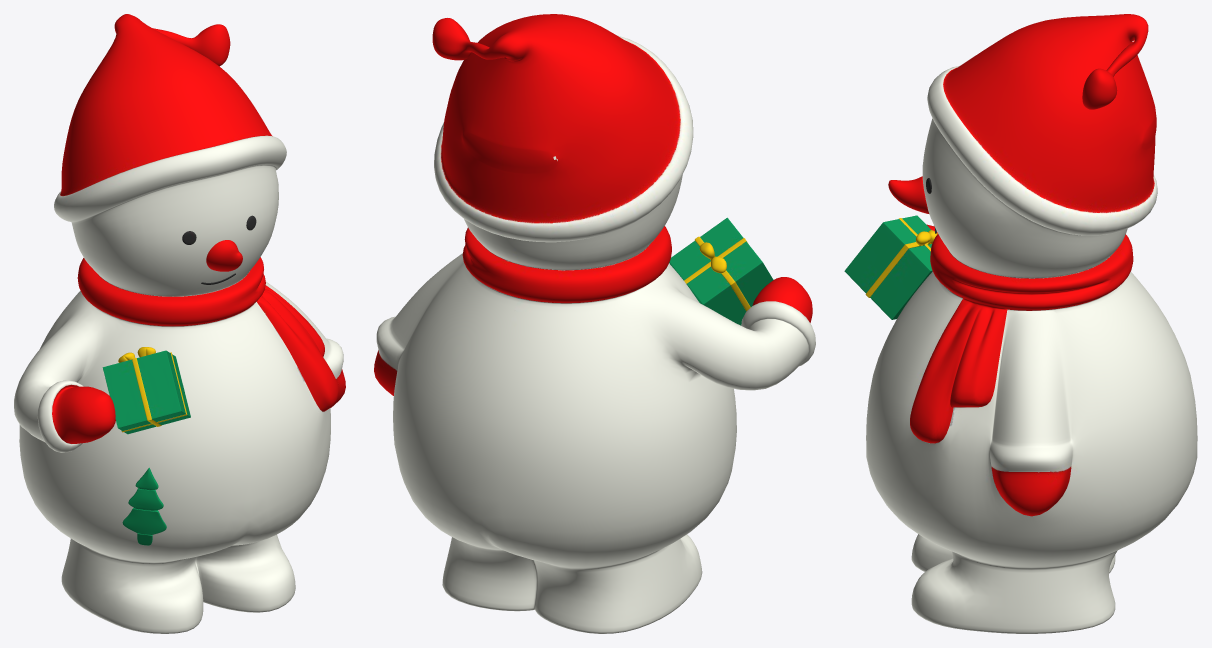
File: testGltf.gltf
3 views of the same model, side by side, from view 1: azimuth 30°, elevation 25°; view 2: azimuth 150°, elevation 25°; view 3: azimuth 270°, elevation 25° (orthographic). The views are drawn at different scales.
Parts seen in each view (by area): view 1: Obj3d66_1069874_16_456; view 2: Obj3d66_1069874_16_456; view 3: Obj3d66_1069874_16_456.
Part boxes in pixels (bbox=[...]): Obj3d66_1069874_16_456: bbox=[14, 14, 345, 633]; Obj3d66_1069874_16_456: bbox=[374, 14, 815, 633]; Obj3d66_1069874_16_456: bbox=[844, 14, 1197, 633].
Size of the model in its own units: 1.3 by 1.91 by 1.07.
1 material, 1 textured.
